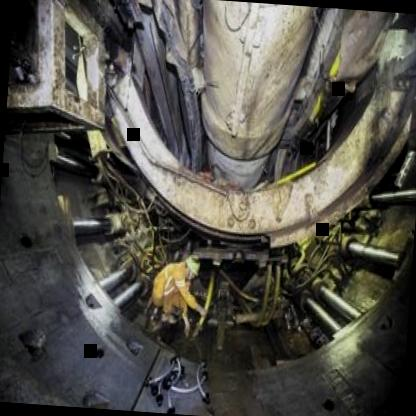helmet: (180, 252, 202, 284)
